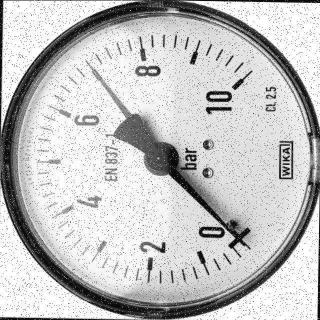gauge: (0, 0, 320, 320), (218, 218, 254, 254), (142, 142, 180, 176), (218, 72, 252, 103), (80, 56, 94, 70), (236, 236, 249, 250)
